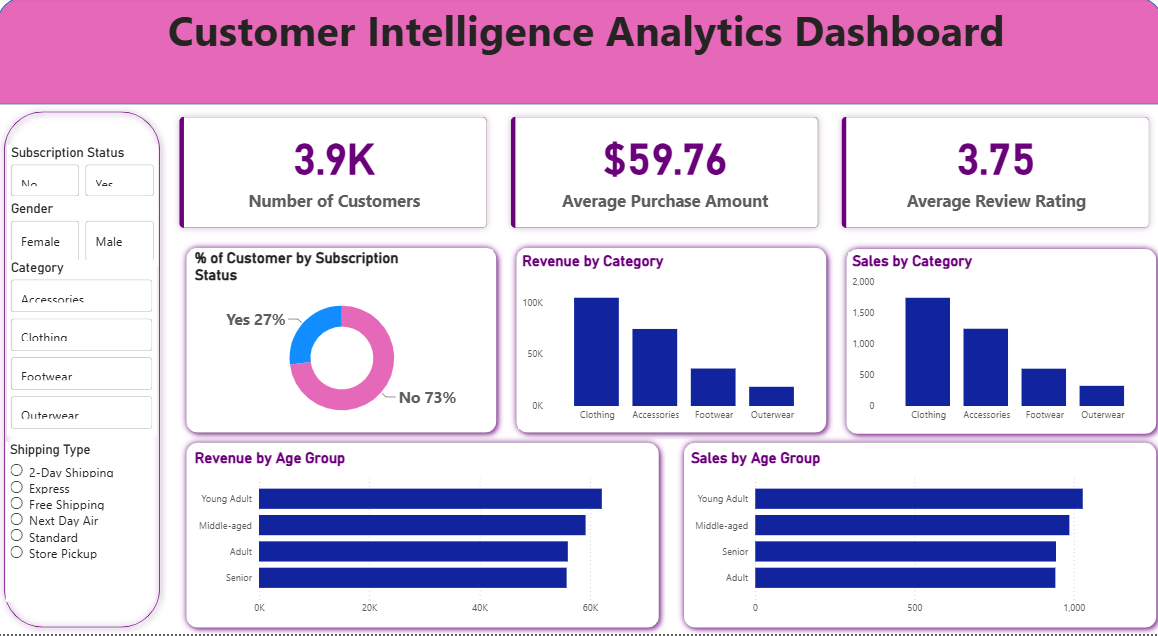

The dashboard page shown, as its layout file describes it:
{"tool":"powerbi","page":{"name":"Page 1","canvas":[1500,820],"ordinal":0},"visuals":[{"type":"cardVisual","fields":{"Data":["customer_behavior customer.Number of Customers","customer_behavior customer.Average Purchase Amount","customer_behavior customer.Average Review Rating"]},"box":[218.7,138.3,1281.6,175.3],"z":0},{"type":"shape","box":[0,0,1500.3,138.3],"z":1000},{"type":"textbox","box":[0,0,1487.5,138.3],"z":2000},{"type":"shape","box":[659.1,313.6,416.5,255.7],"z":3000},{"type":"clusteredColumnChart","title":"Revenue by Category","fields":{"Y":["Sum(customer_behavior customer.purchase_amount)"],"Category":["customer_behavior customer.category"]},"box":[670.6,328,392.4,228.3],"z":4000},{"type":"shape","box":[234.8,313.6,416.5,255.7],"z":5000},{"type":"shape","box":[1083.5,315.2,416.5,255.7],"z":6000},{"type":"donutChart","title":"% of Customer by Subscription Status","fields":{"Category":["customer_behavior customer.subscription_status"],"Y":["CountNonNull(customer_behavior customer.customer_id)"]},"box":[249.3,324.8,389.2,231.6],"z":7000},{"type":"clusteredColumnChart","title":"Sales by Category","fields":{"Y":["CountNonNull(customer_behavior customer.customer_id)"],"Category":["customer_behavior customer.category"]},"box":[1095.1,328,392.4,228.3],"z":8000},{"type":"shape","box":[0,138.3,218.7,681.8],"z":9000},{"type":"advancedSlicerVisual","title":"Subscription Status","fields":{"Values":["customer_behavior customer.subscription_status"]},"box":[12.9,189.8,194.6,72.4],"z":10000},{"type":"advancedSlicerVisual","title":"Gender","fields":{"Values":["customer_behavior customer.gender"]},"box":[12.9,262.1,194.6,83.6],"z":11000},{"type":"advancedSlicerVisual","title":"Category","fields":{"Values":["customer_behavior customer.category"]},"box":[12.9,337.7,193,226.7],"z":12000},{"type":"listSlicer","title":"Shipping Type","fields":{"Values":["customer_behavior customer.shipping_type"]},"box":[11.3,572.5,191.4,205.8],"z":13000},{"type":"shape","box":[234.8,564.4,625.5,255.7],"z":14000},{"type":"clusteredBarChart","title":"Revenue by Age Group","fields":{"Y":["Sum(customer_behavior customer.purchase_amount)"],"Category":["customer_behavior customer.age_group"]},"box":[249.3,582.1,599.8,221.9],"z":15000},{"type":"shape","box":[874.8,564.4,625.5,255.7],"z":16000},{"type":"clusteredBarChart","title":"Sales by Age Group","fields":{"Y":["CountNonNull(customer_behavior customer.customer_id)"],"Category":["customer_behavior customer.age_group"]},"box":[887.7,582.1,599.8,221.9],"z":17000}]}

Visuals, with their boxes in screenshot pixels (x1, y1, x2, y2), scaled from the page's 1500x820 canvas onto the 1158x636 screenshot:
cardVisual - customer_behavior customer.Number of Customers x customer_behavior customer.Average Purchase Amount: x1=169 y1=107 x2=1157 y2=243
shape: x1=0 y1=0 x2=1157 y2=107
textbox: x1=0 y1=0 x2=1148 y2=107
shape: x1=509 y1=243 x2=830 y2=442
"Revenue by Category" clusteredColumnChart: x1=518 y1=254 x2=821 y2=431
shape: x1=181 y1=243 x2=503 y2=442
shape: x1=836 y1=244 x2=1157 y2=443
"% of Customer by Subscription Status" donutChart: x1=192 y1=252 x2=493 y2=432
"Sales by Category" clusteredColumnChart: x1=845 y1=254 x2=1148 y2=431
shape: x1=0 y1=107 x2=169 y2=635
"Subscription Status" advancedSlicerVisual: x1=10 y1=147 x2=160 y2=203
"Gender" advancedSlicerVisual: x1=10 y1=203 x2=160 y2=268
"Category" advancedSlicerVisual: x1=10 y1=262 x2=159 y2=438
"Shipping Type" listSlicer: x1=9 y1=444 x2=156 y2=604
shape: x1=181 y1=438 x2=664 y2=635
"Revenue by Age Group" clusteredBarChart: x1=192 y1=451 x2=656 y2=624
shape: x1=675 y1=438 x2=1157 y2=635
"Sales by Age Group" clusteredBarChart: x1=685 y1=451 x2=1148 y2=624
